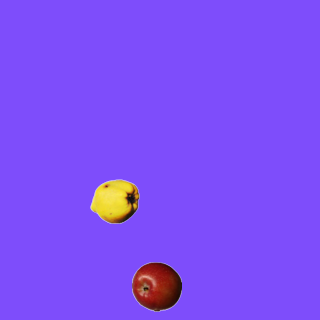Apple Braeburn: (131, 261, 181, 311)
Quince: (89, 176, 139, 226)
